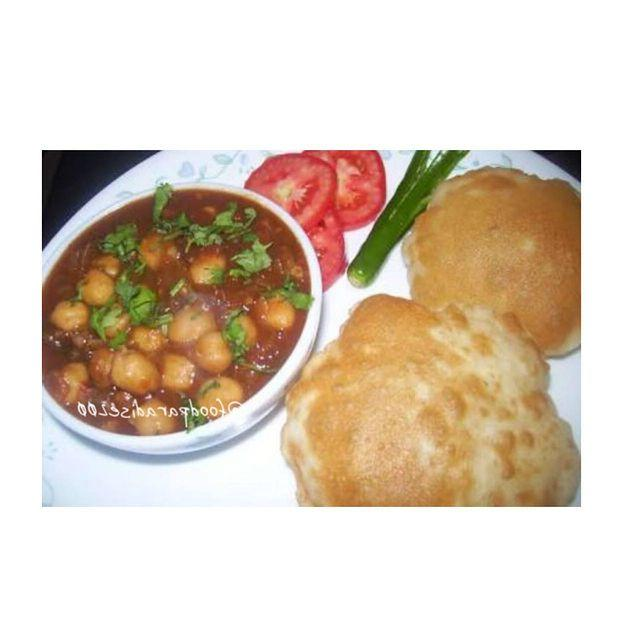Chole: (44, 214, 288, 403)
